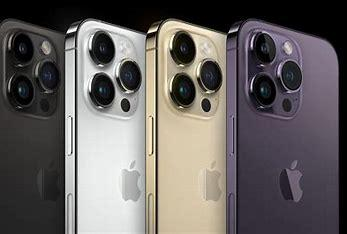-iphone13: (221, 14, 347, 234), (142, 12, 248, 234), (62, 14, 160, 234), (0, 11, 61, 234)
